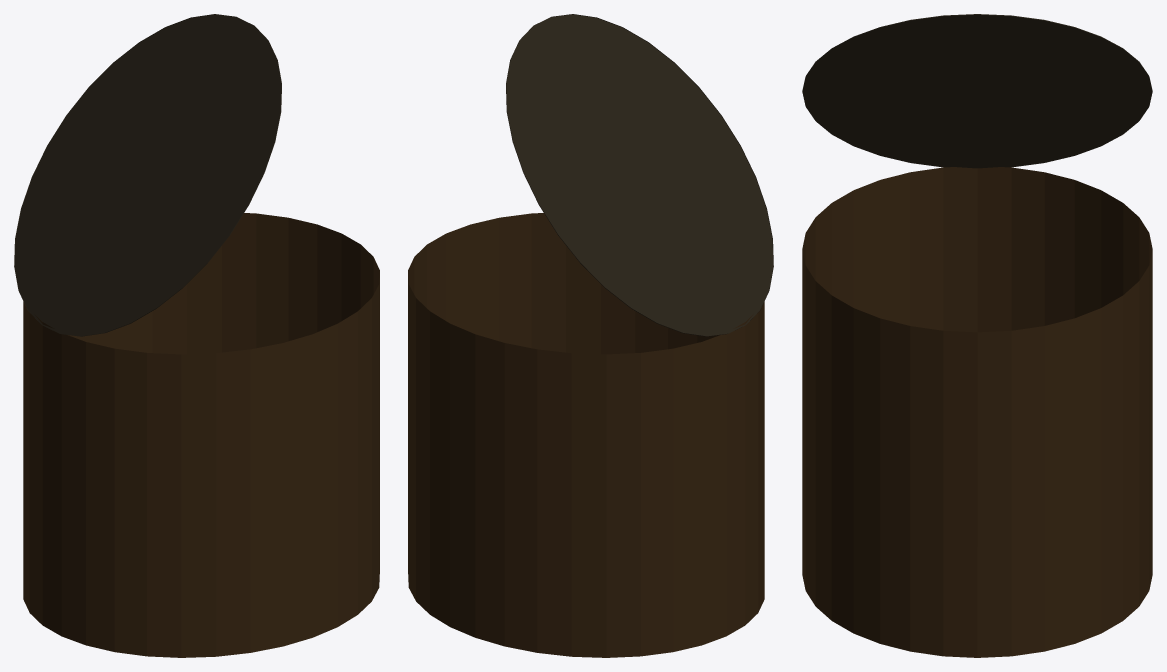
Rendered from CannedVegies.fbx.
3 renders of one model, left to right at view 1: azimuth 30°, elevation 25°; view 2: azimuth 150°, elevation 25°; view 3: azimuth 270°, elevation 25°, orthographic. The views are drawn at different scales.
Visible parts, largest first — view 1: Cylinder, Cylinder.001; view 2: Cylinder, Cylinder.001; view 3: Cylinder, Cylinder.001.
Boxes of the visible parts, x1,y1,x2,y2 form: Cylinder: (23, 213, 379, 657); Cylinder.001: (14, 14, 281, 336); Cylinder: (408, 213, 764, 657); Cylinder.001: (506, 14, 773, 336); Cylinder: (802, 167, 1152, 657); Cylinder.001: (802, 14, 1152, 168).
Size of the model in its own units: 21.29 by 34.96 by 18.87.
